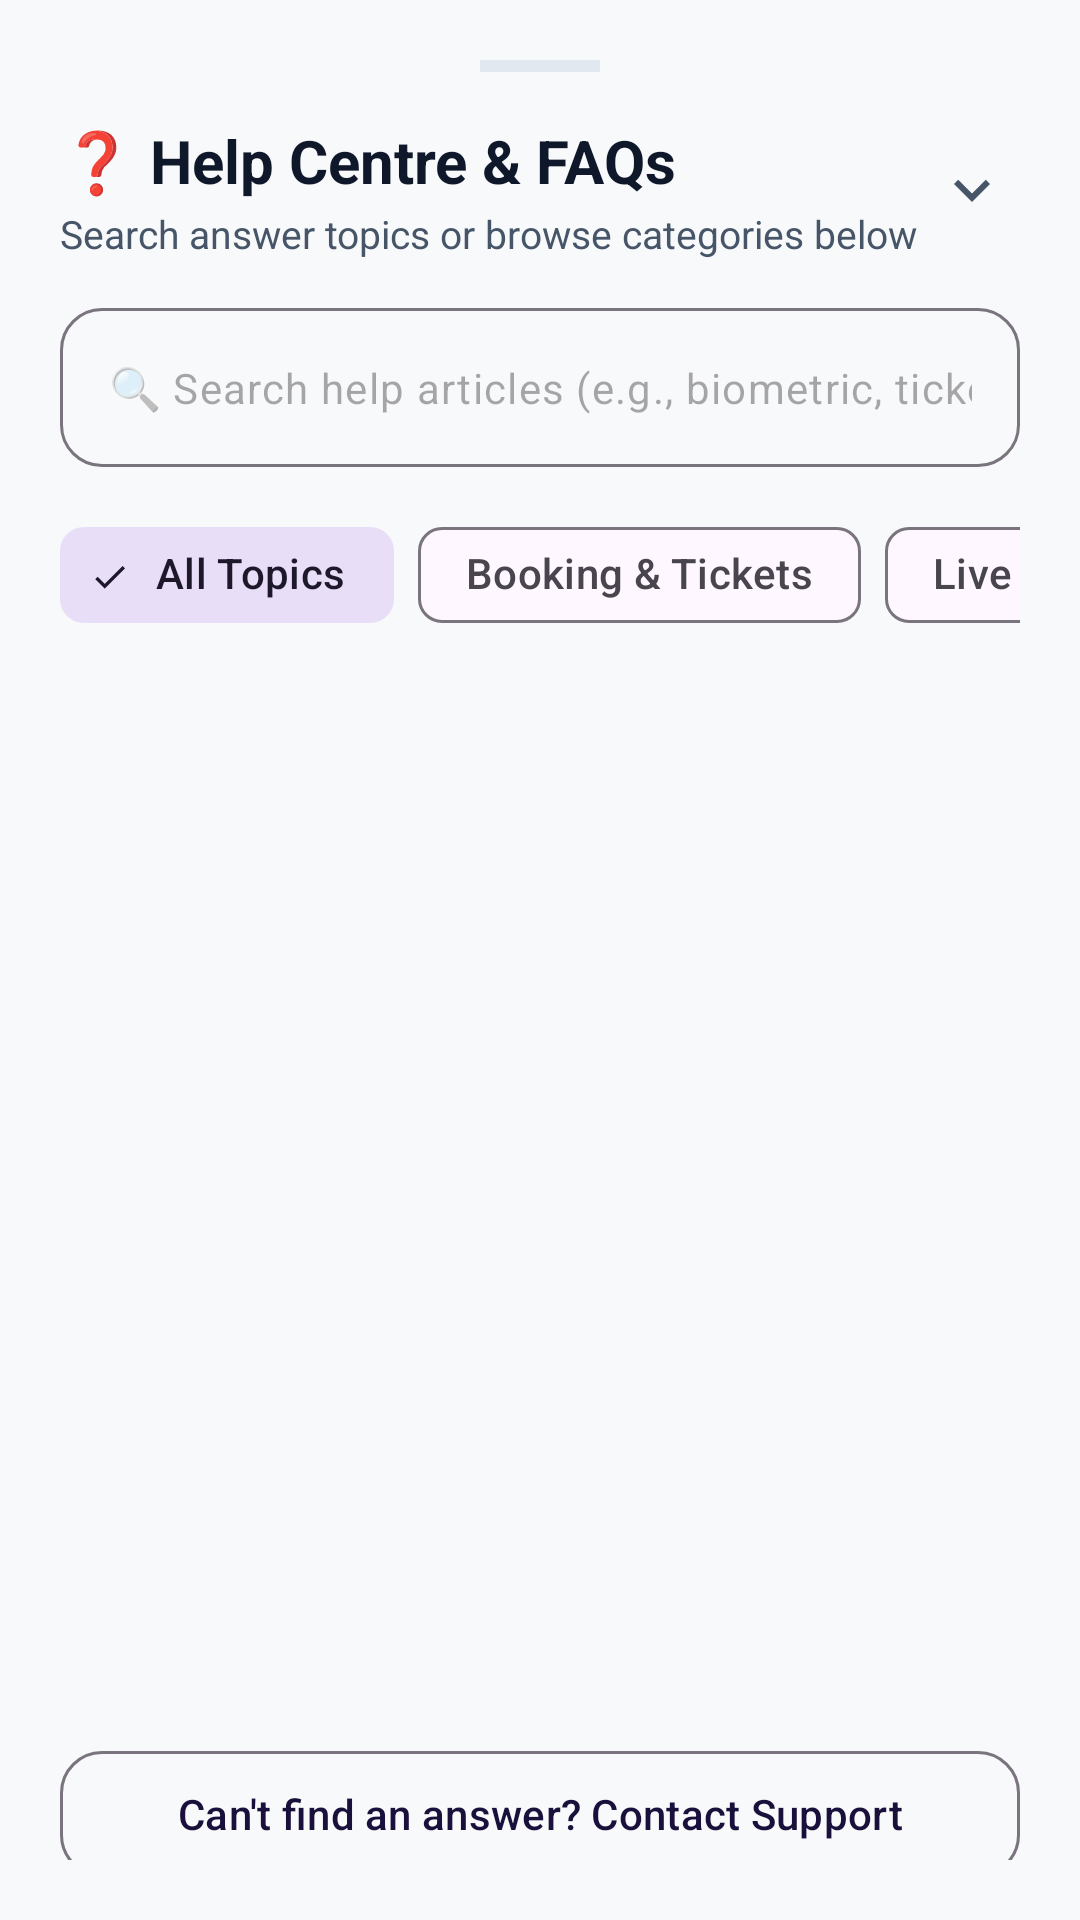

Icons on this 1080 × 1920 Android screen, each with the point to tap as (x,y):
chevron down: (972,191)
